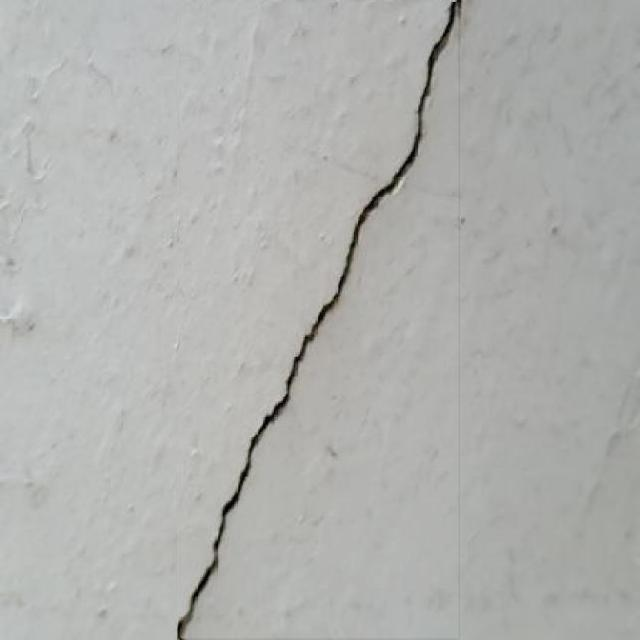Crack: (174, 0, 461, 638)
